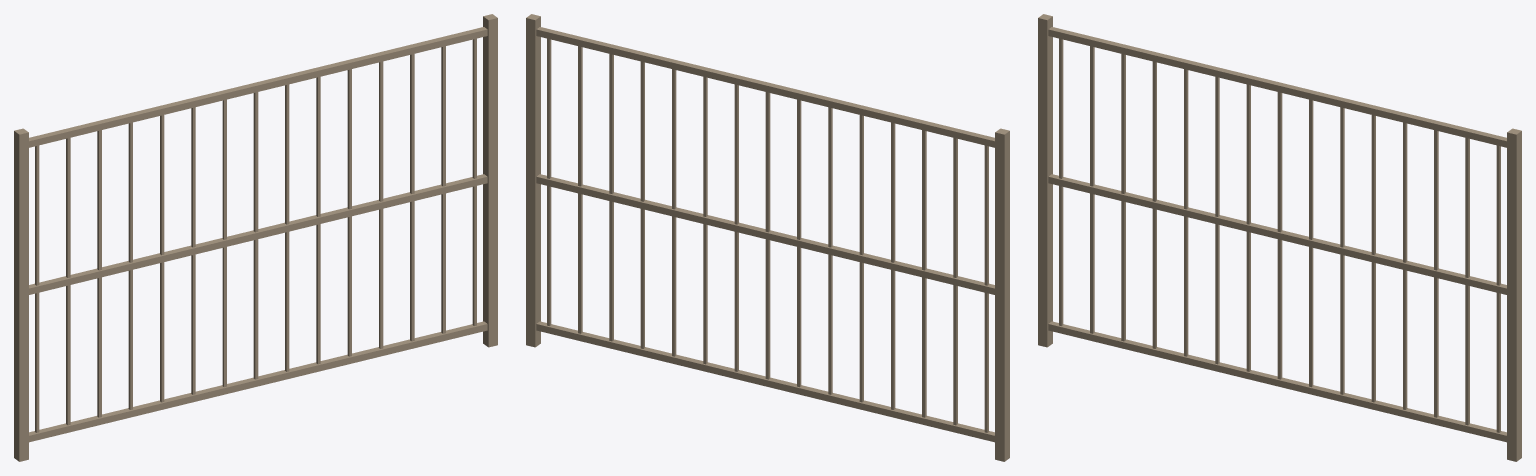
Rendered from stock-car-oval-speedway-catch-fence-panel-5093a880__16921.glb.
The picture shows the model from 3 angles, left to right: view 1: azimuth 30°, elevation 25°; view 2: azimuth 150°, elevation 25°; view 3: azimuth 330°, elevation 25°; orthographic projection.
Visible parts, largest first — view 1: catch-fence-panel; view 2: catch-fence-panel; view 3: catch-fence-panel.
Boxes of the visible parts, x1,y1,x2,y2 form: catch-fence-panel: (14, 14, 497, 461); catch-fence-panel: (526, 14, 1009, 461); catch-fence-panel: (1038, 14, 1521, 461).
Bounding box in the file's own units: 3.06 × 2 × 0.0601.
